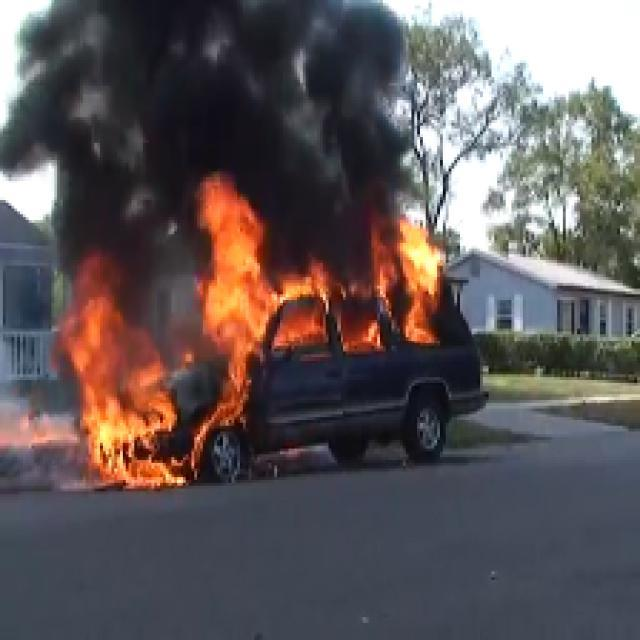Fire: (66, 306, 166, 483), (202, 206, 258, 396), (272, 270, 444, 328)
Smoke: (34, 0, 404, 198)
